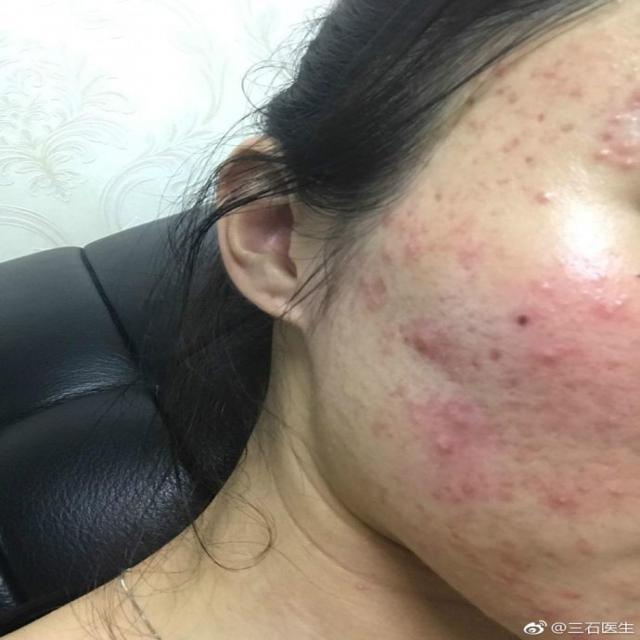Acne: (492, 299, 630, 395), (406, 311, 478, 384), (492, 469, 602, 515), (508, 547, 596, 603), (398, 432, 472, 495), (422, 222, 490, 277), (570, 128, 640, 180), (436, 396, 540, 428), (357, 272, 412, 318), (478, 86, 528, 133), (573, 371, 622, 414), (521, 183, 576, 210), (581, 270, 617, 310), (524, 264, 569, 296), (604, 474, 632, 515)
